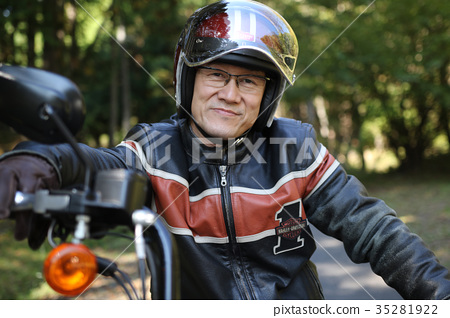helmet: (177, 11, 289, 109)
